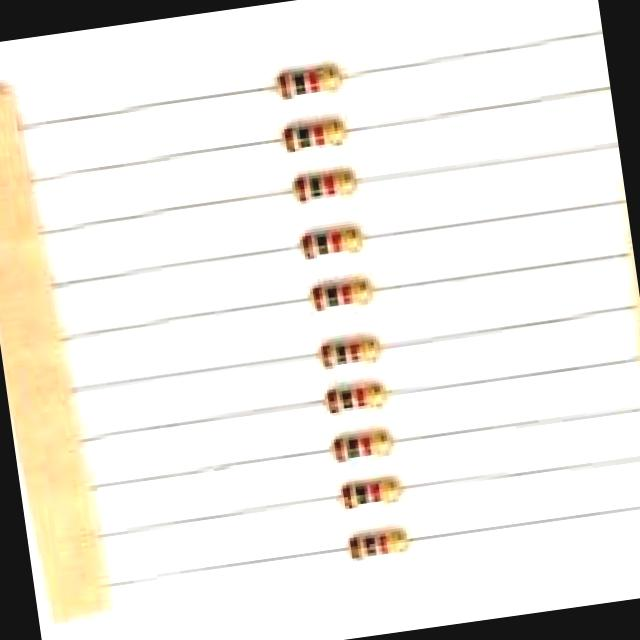Resistor: (294, 223, 375, 268), (308, 276, 384, 319), (287, 168, 363, 209), (270, 63, 349, 102), (277, 116, 351, 157), (316, 334, 389, 372), (323, 380, 395, 418), (343, 527, 414, 564), (339, 475, 409, 512), (332, 430, 397, 465)
black: (344, 434, 355, 456), (354, 480, 362, 503), (364, 532, 372, 554), (339, 384, 347, 405), (325, 279, 333, 300), (335, 341, 342, 363)
red: (376, 530, 387, 553), (369, 478, 376, 501), (356, 385, 363, 407), (359, 432, 367, 451)
